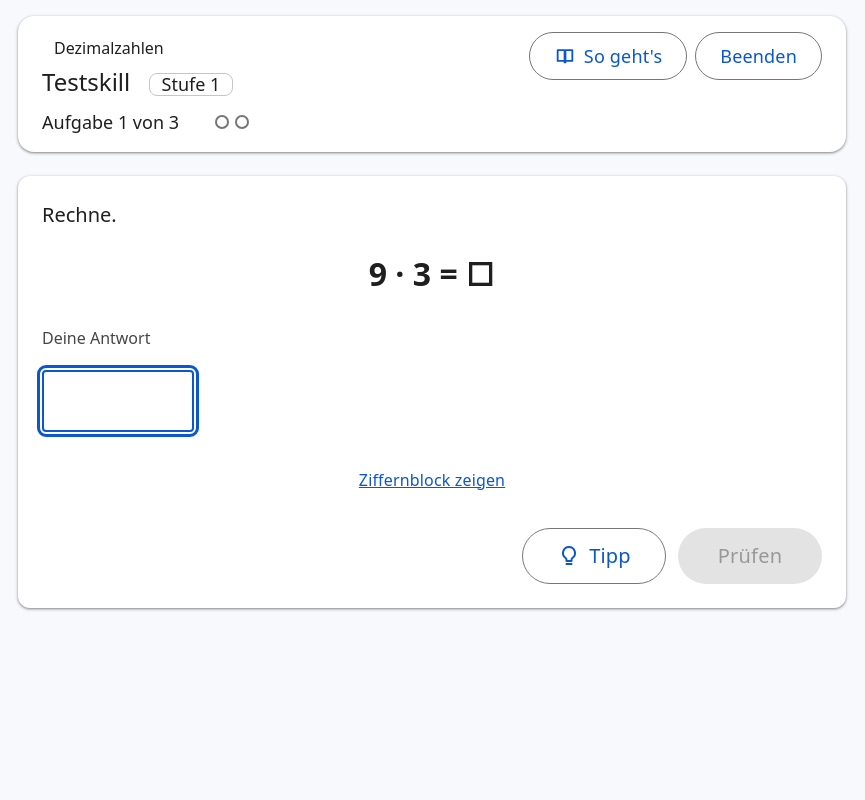
PracticePage: item flow › 2nd wrong → worked solution, revealed answer, Zwillingsaufgabe inserted, recorded as not solved
Expected: the button "Prüfen" is shown, [678, 528, 822, 584]
Type "1" into the field labelled "Deine Antwort".
click(118, 401); type("1")  # box [42, 370, 194, 432]
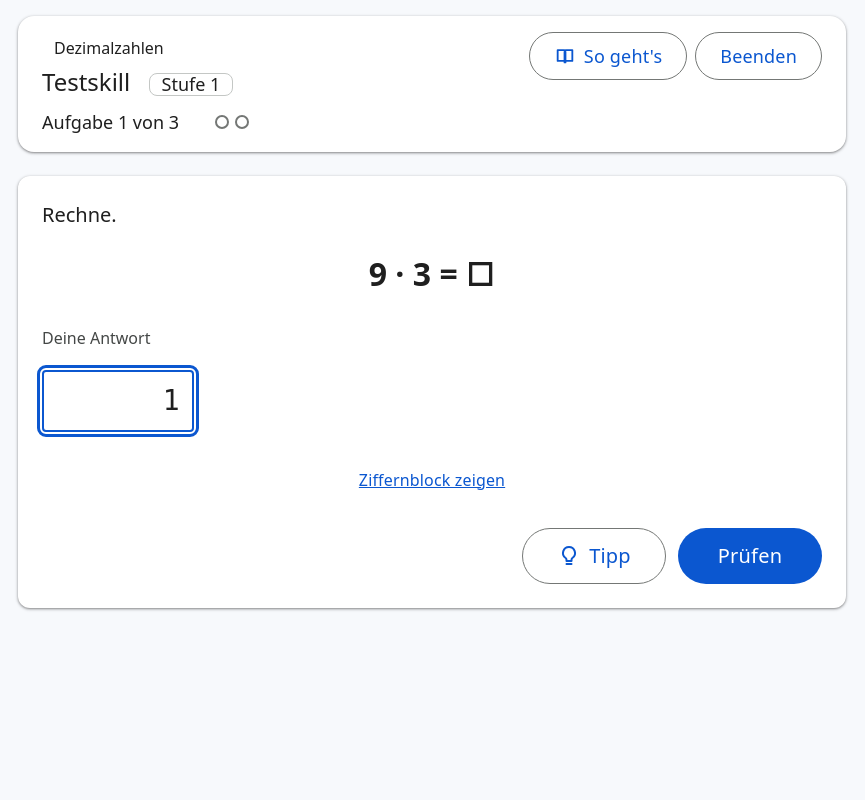
Click the button "Prüfen".
click(750, 556)  # box [678, 528, 822, 584]
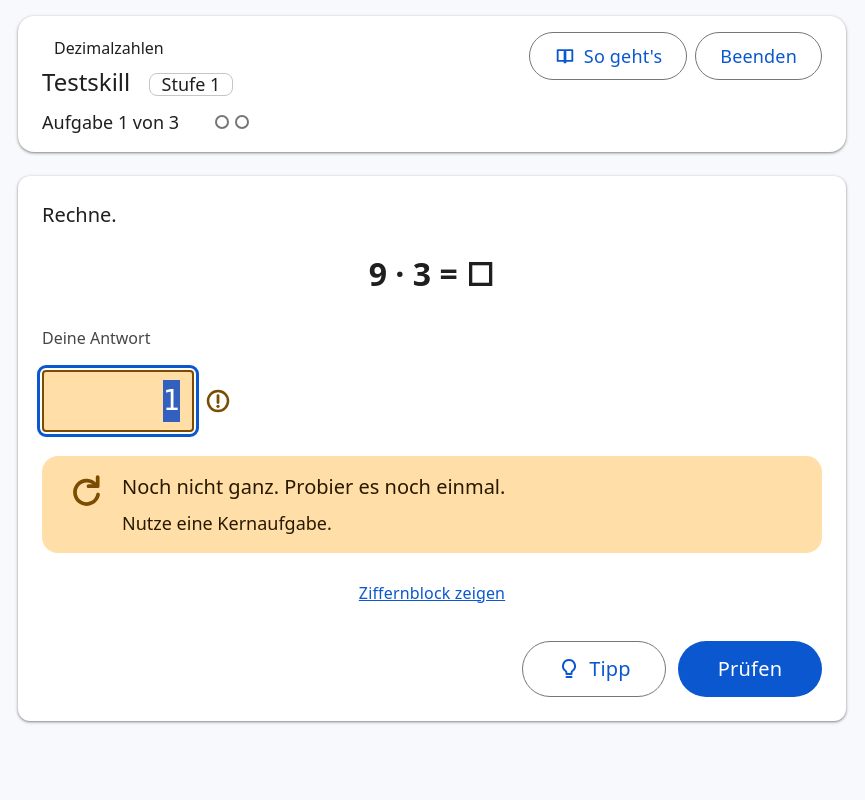
Replace the text in the field labelled "Deine Antwort" with "2" at (118, 401), box [42, 370, 194, 432]
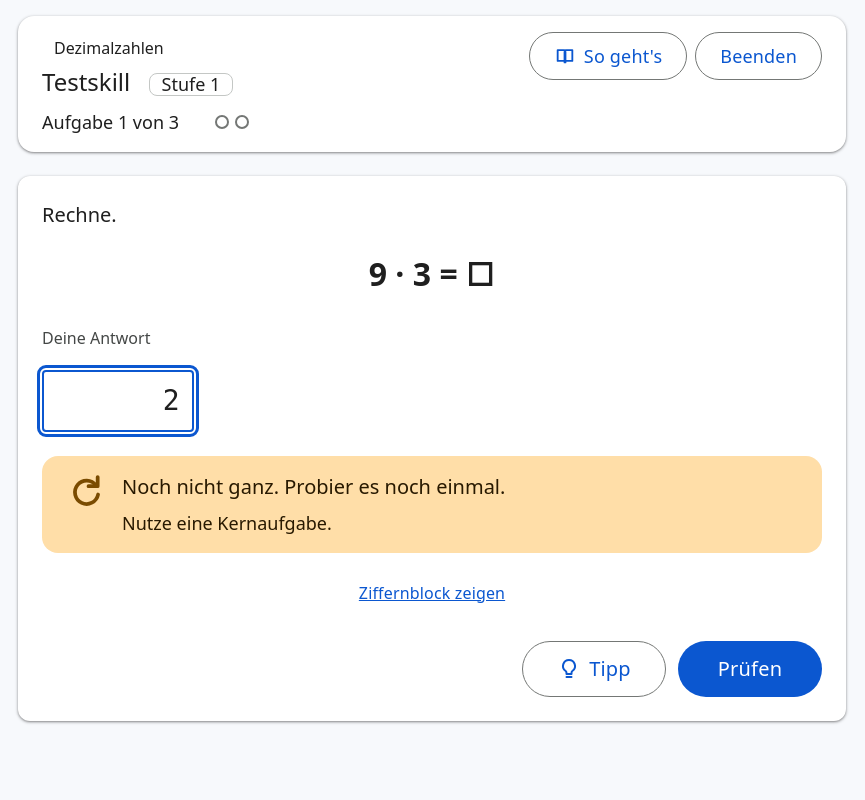
Click the button "Prüfen".
click(750, 669)  # box [678, 641, 822, 697]
(page scrolled)
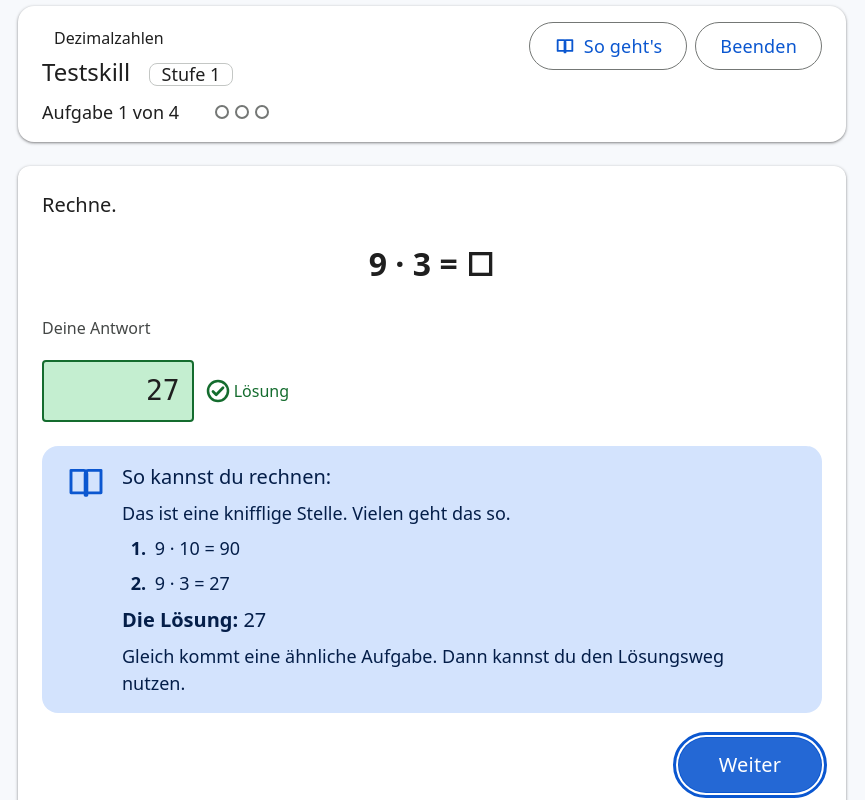
Expected: the text "So kannst du rechnen:" is shown, [122, 463, 331, 490]
Expected: the text "Die Lösung:" is shown, [122, 606, 243, 633]
Expected: the field labelled "Deine Antwort" holds "27", [42, 360, 194, 422]
